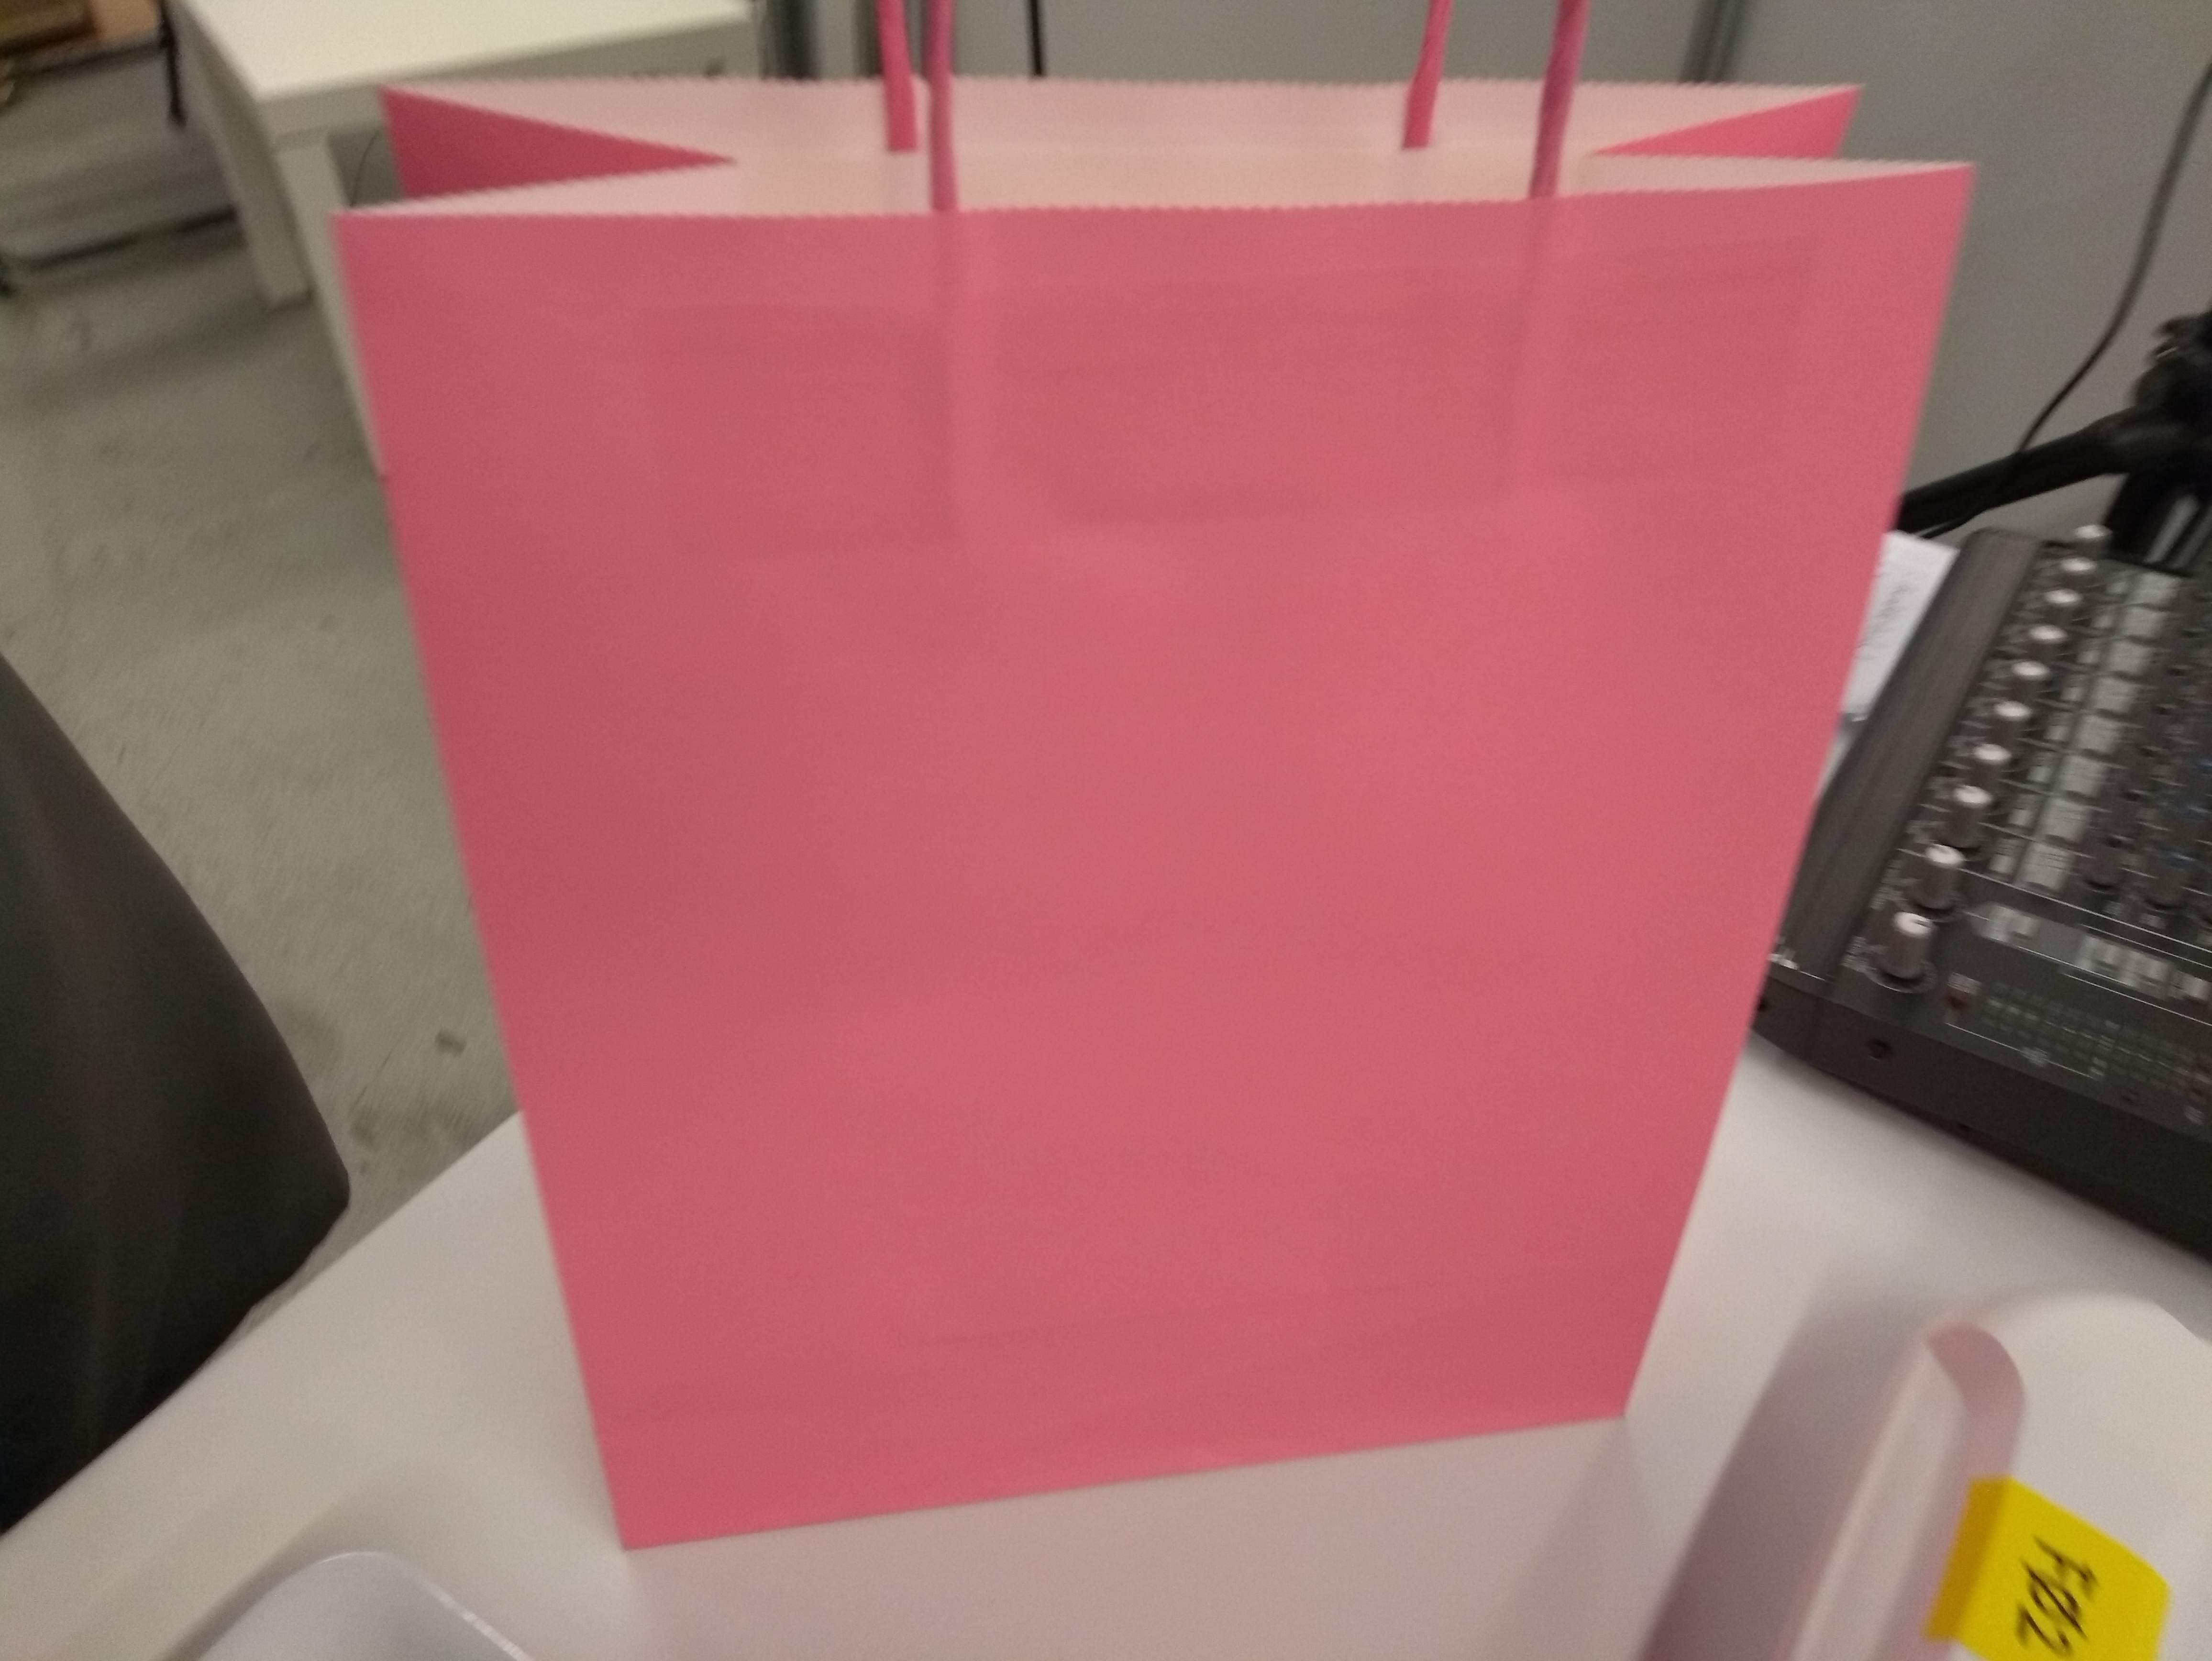help_me_carry_opl: (338, 45, 1966, 1565)
